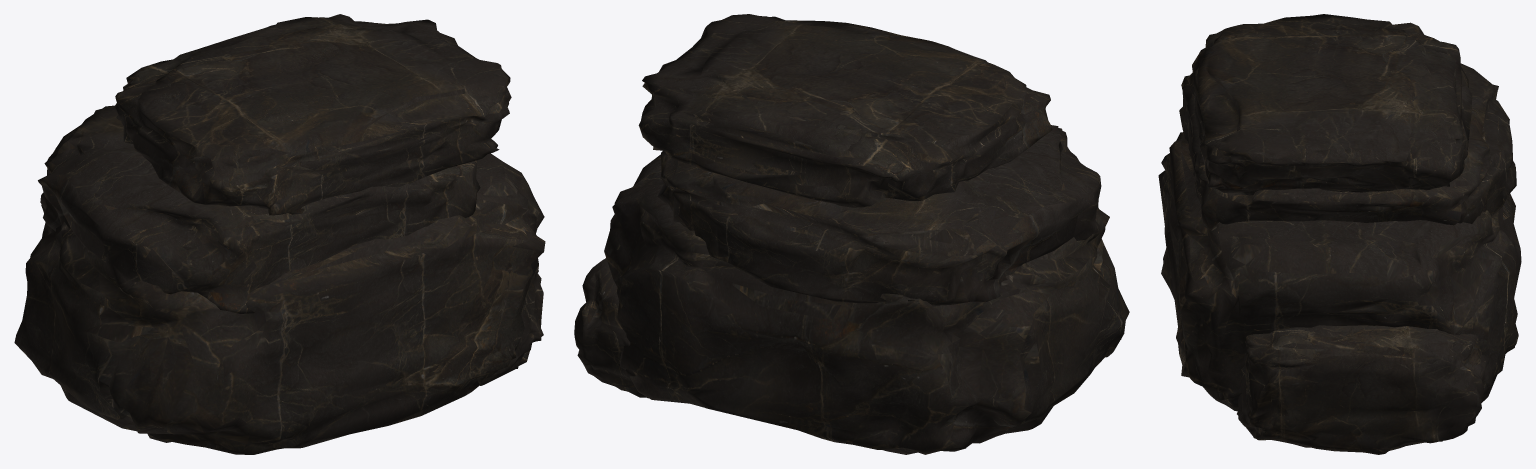
The model's file is rock-rounded.glb.
The picture shows the model from 3 angles, left to right: view 1: azimuth 30°, elevation 25°; view 2: azimuth 150°, elevation 25°; view 3: azimuth 270°, elevation 25°; orthographic projection. The views are drawn at different scales.
Parts seen in each view (by area): view 1: Fractured river stone · layered mineral faces · export mesh; view 2: Fractured river stone · layered mineral faces · export mesh; view 3: Fractured river stone · layered mineral faces · export mesh.
Boxes of the visible parts, x1,y1,x2,y2 form: Fractured river stone · layered mineral faces · export mesh: (14, 14, 545, 454); Fractured river stone · layered mineral faces · export mesh: (574, 14, 1129, 454); Fractured river stone · layered mineral faces · export mesh: (1158, 14, 1521, 454).
Bounding box in the file's own units: 0.1814 × 0.1247 × 0.1343.
Materials: 1 (1 with a texture image).
